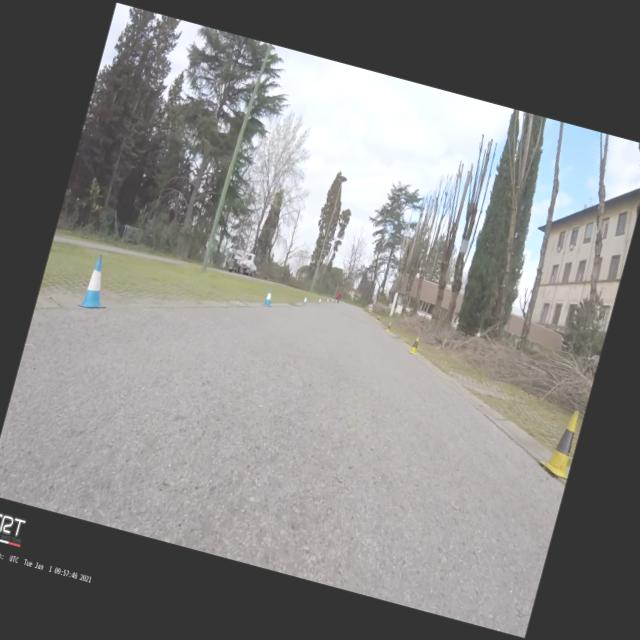blue_cone: (78, 252, 118, 312), (262, 289, 274, 306), (302, 296, 308, 305), (318, 298, 322, 304)
yellow_cone: (538, 405, 584, 478), (407, 335, 420, 355), (384, 321, 392, 333), (376, 316, 379, 322), (371, 312, 374, 318)
